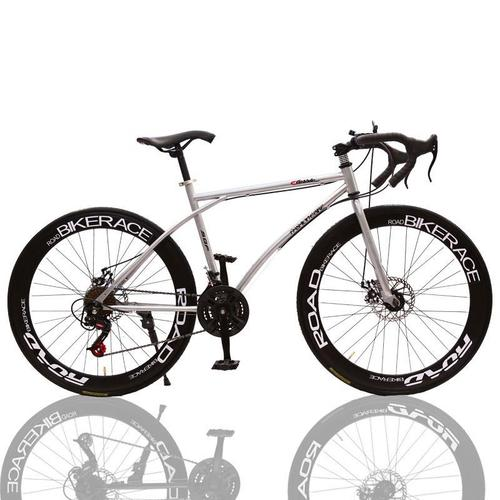单车: (6, 113, 494, 405)
